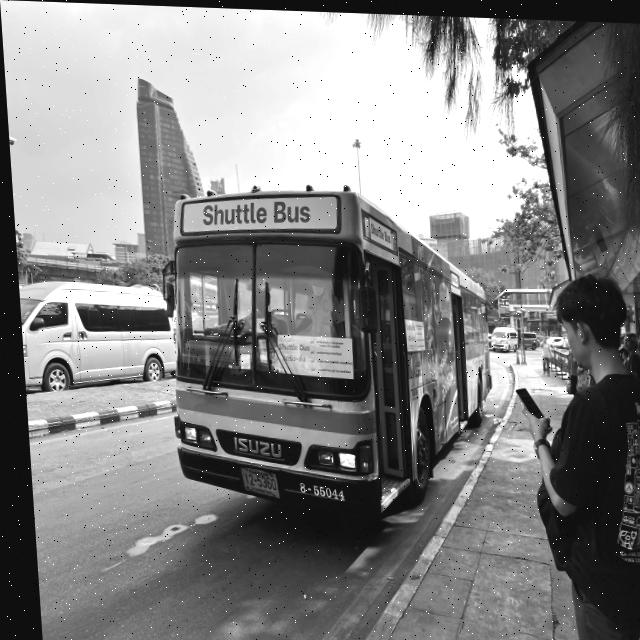BMTA-bus: (167, 186, 488, 522)
Bus Line Number: (198, 195, 312, 229)
Bus Side Number: (290, 477, 342, 502)
Destination Sign: (273, 330, 351, 377)
